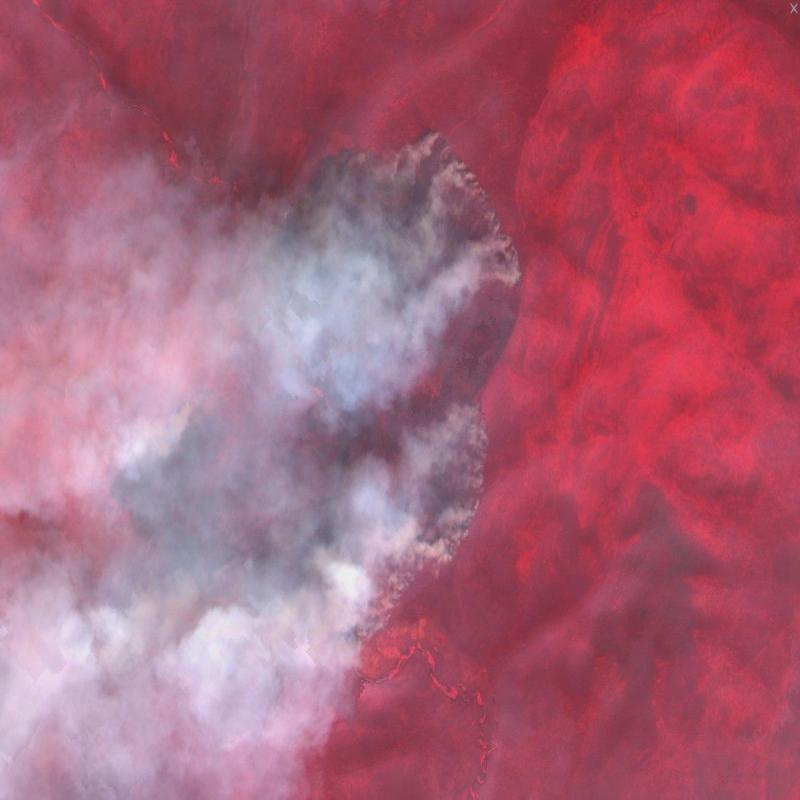fire: (96, 107, 536, 665)
